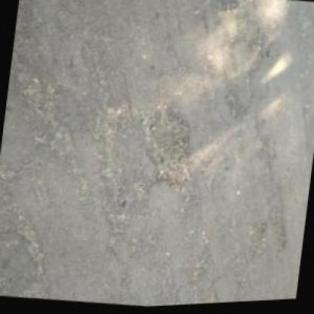Hueco: (132, 94, 203, 196)
